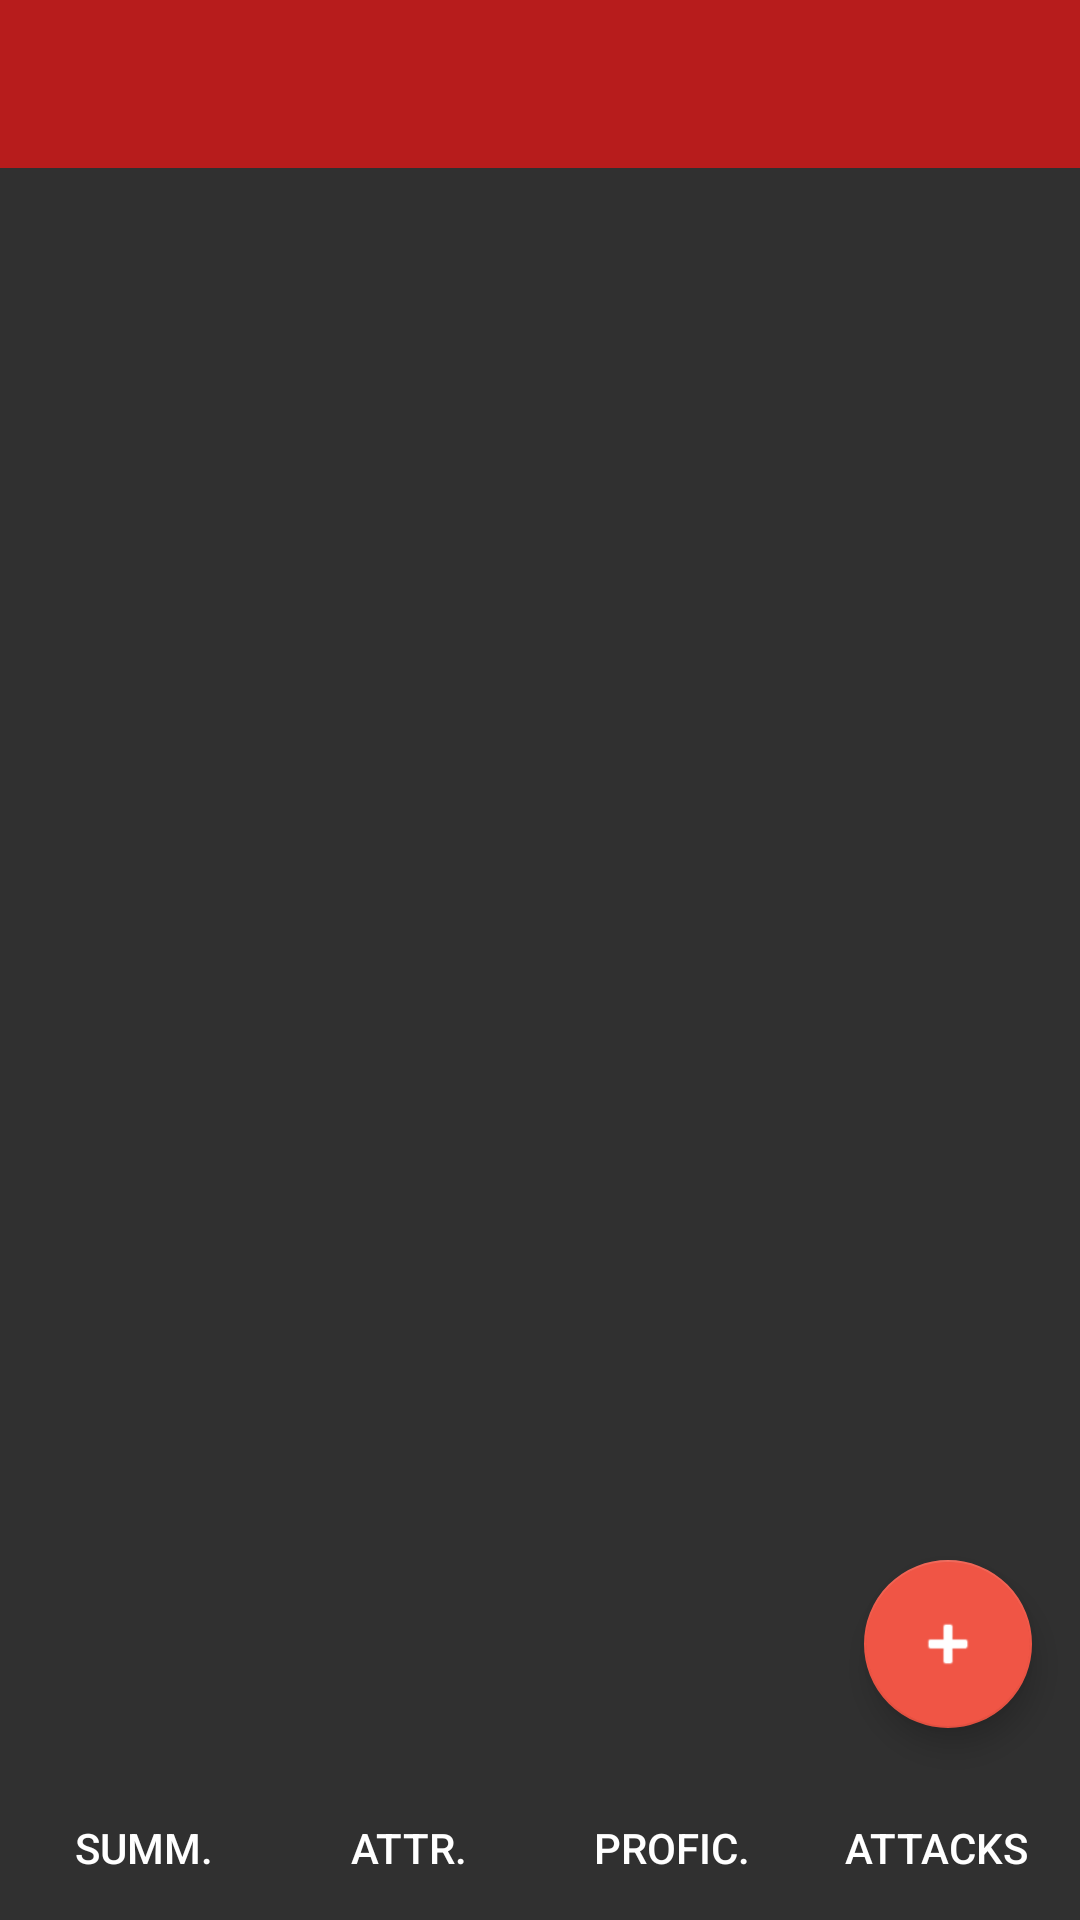

Where icons sit on this 1080 × 1920 app screen, as (x1, y1, x2, y2):
add: (864, 1560, 1032, 1728)
